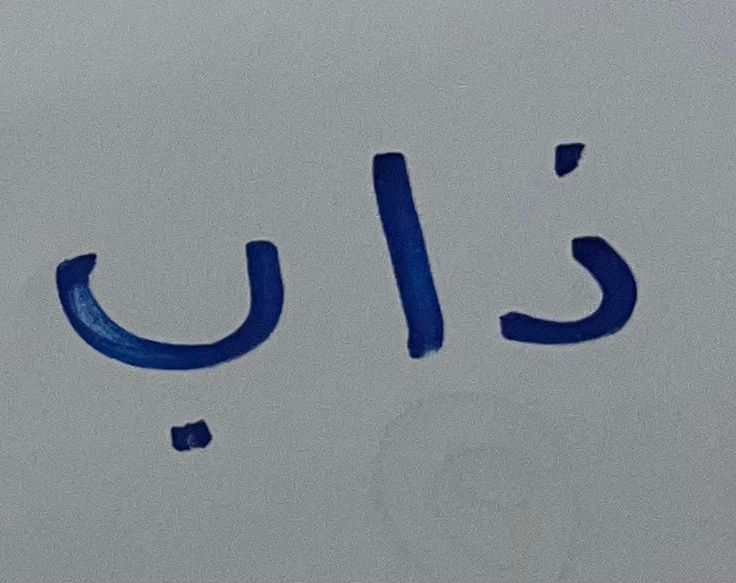alef: (344, 116, 464, 380)
beh: (42, 192, 313, 481)
noon: (480, 111, 651, 374)
